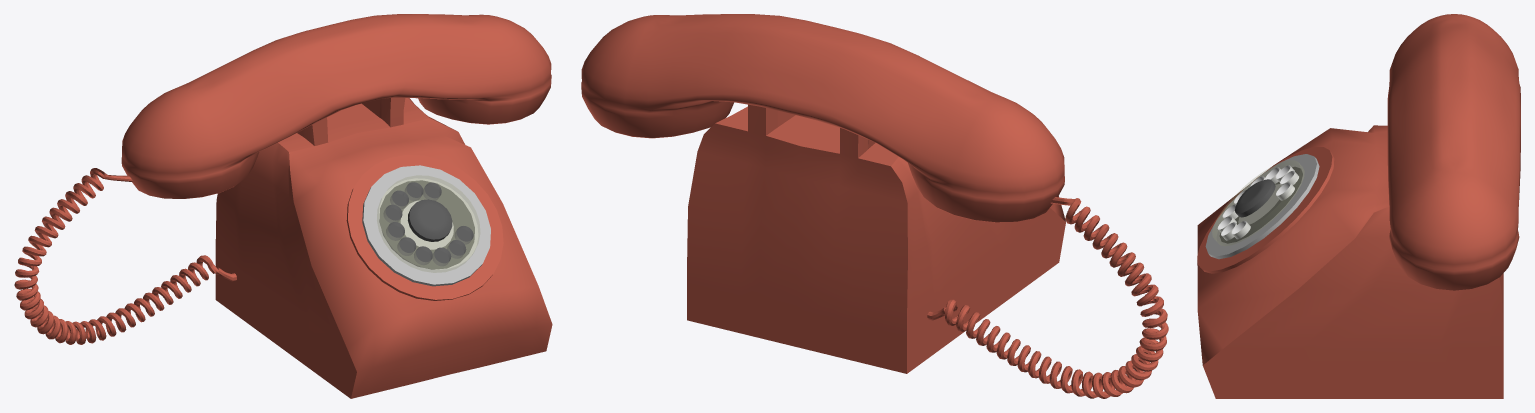
File: phonefinal2.glb
3 renders of one model, left to right at view 1: azimuth 30°, elevation 25°; view 2: azimuth 150°, elevation 25°; view 3: azimuth 270°, elevation 25°, orthographic. The views are drawn at different scales.
Parts seen in each view (by area): view 1: phonebody, reciever, numbers, cord_up, Base, holes, center; view 2: phonebody, reciever, cord_up; view 3: phonebody, reciever, numbers, holes, Base, center.
Part boxes in pixels (bbox=[...]): phonebody: bbox=[215, 97, 552, 398]; reciever: bbox=[121, 14, 551, 198]; numbers: bbox=[362, 165, 490, 286]; cord_up: bbox=[14, 168, 236, 344]; Base: bbox=[346, 155, 503, 300]; holes: bbox=[377, 175, 479, 272]; center: bbox=[407, 199, 452, 241]; phonebody: bbox=[687, 104, 1065, 373]; reciever: bbox=[581, 14, 1064, 222]; cord_up: bbox=[927, 197, 1168, 398]; phonebody: bbox=[1197, 125, 1503, 398]; reciever: bbox=[1387, 14, 1520, 290]; numbers: bbox=[1205, 154, 1319, 259]; holes: bbox=[1212, 160, 1304, 245]; Base: bbox=[1197, 147, 1334, 273]; center: bbox=[1234, 179, 1275, 217].
Bounding box in the file's own units: 0.1274 × 0.0614 × 0.0643.
